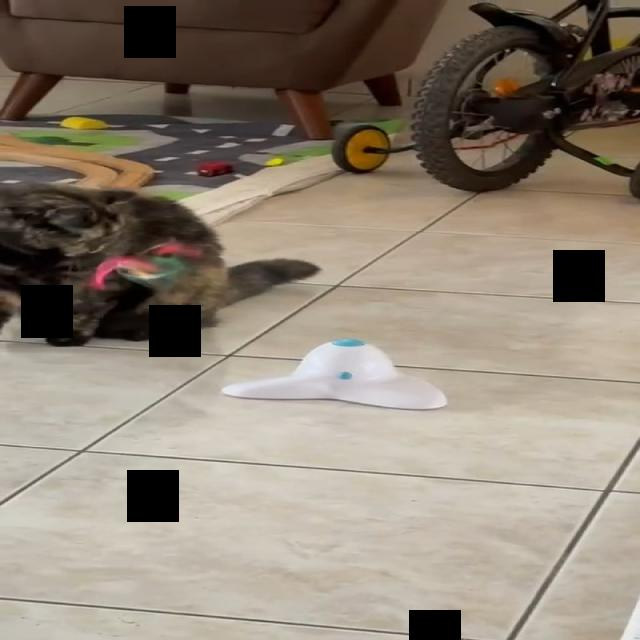authorized: (0, 179, 321, 347)
